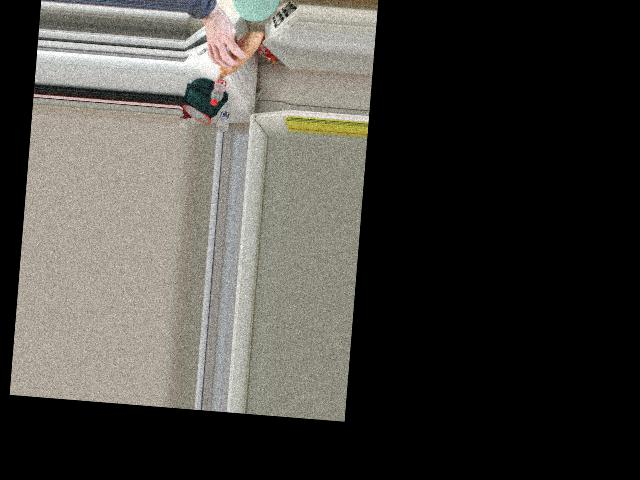sweet_potato: (207, 33, 261, 79)
